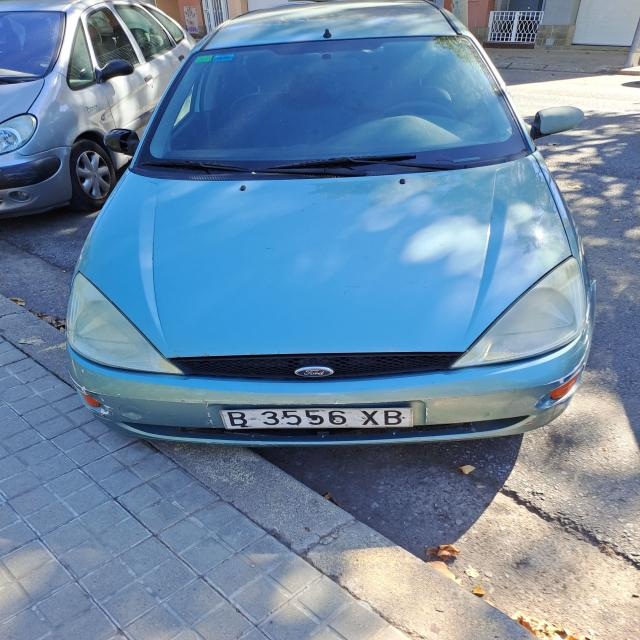license_plate-34Td: (220, 408, 412, 430)
